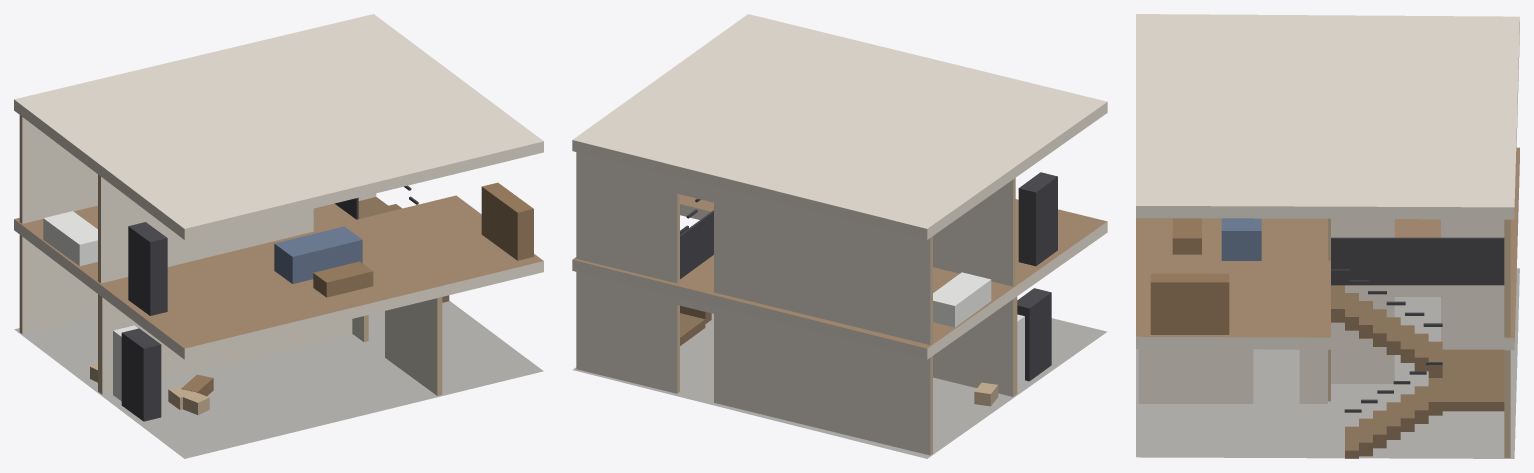
The model's file is interior.glb.
3 views of the same model, side by side, from view 1: azimuth 30°, elevation 25°; view 2: azimuth 150°, elevation 25°; view 3: azimuth 270°, elevation 25° (orthographic). The views are drawn at different scales.
Parts seen in each view (by area): view 1: slabs, partitions, coarse-s1, coarse-s0, stair; view 2: slabs, partitions, coarse-s1, coarse-s0, stair; view 3: slabs, stair, partitions, coarse-s1.
Part boxes in pixels (x1,y1,x2,y2): slabs: (14,14,543,458); partitions: (19,115,442,395); coarse-s1: (43,182,533,315); coarse-s0: (90,325,213,421); stair: (334,185,449,302); slabs: (572,14,1107,458); partitions: (576,152,1017,455); coarse-s1: (933,172,1057,327); coarse-s0: (974,288,1051,406); stair: (680,198,713,345); slabs: (1136,14,1519,458); stair: (1331,237,1504,458); partitions: (1138,218,1510,457); coarse-s1: (1150,218,1261,334).
Bounding box in the file's own units: 8.87 × 5.4 × 7.44.
